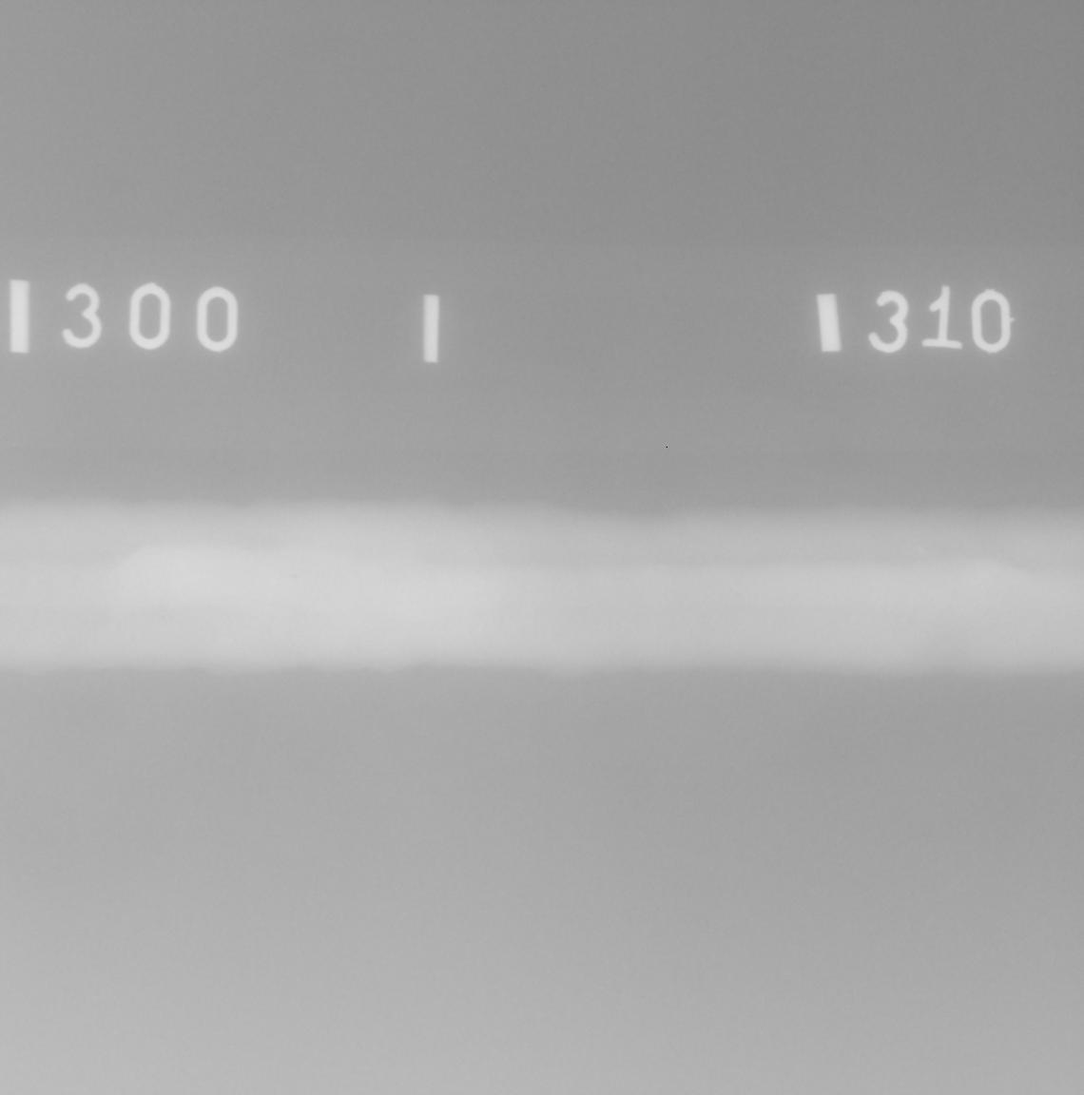Inclusion: (161, 614, 166, 621)
Pore/Porosity: (292, 574, 298, 578), (169, 614, 172, 620)
